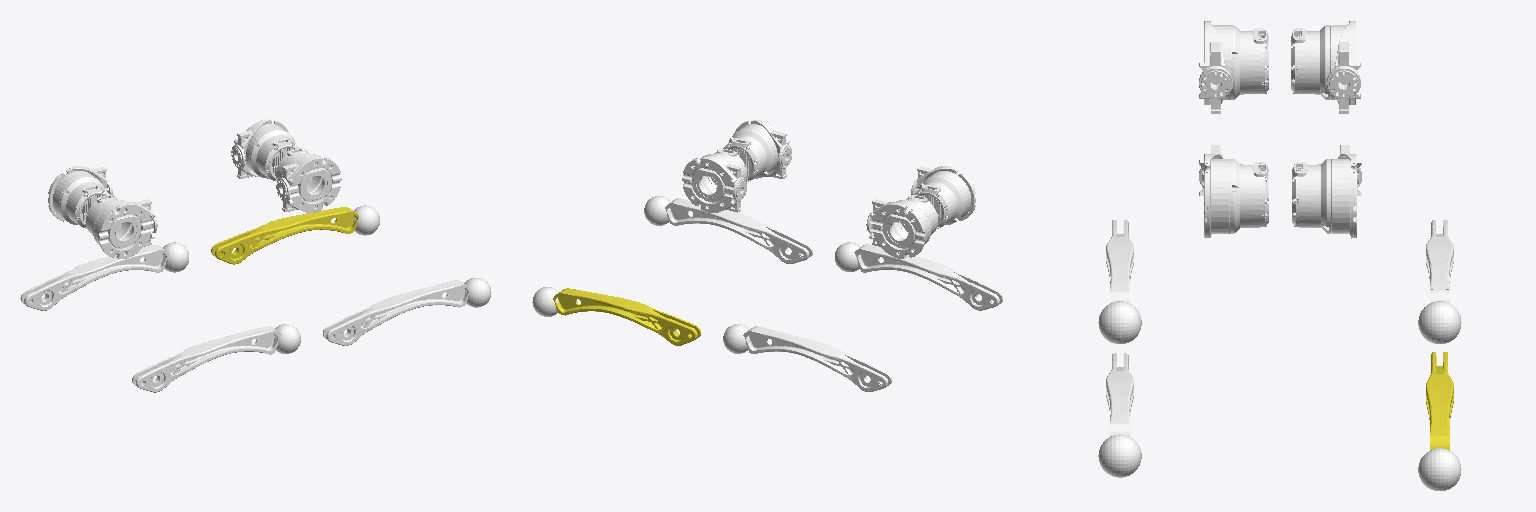
URDF robot description (MiniLiteV3):
<?xml version="1.0" encoding="utf-8"?>  
<robot name="MiniLiteV3">   
  <link name="TORSO">  
    <inertial>
      <origin xyz="0 0 0" rpy="0 0 0" />
      <mass value="7.794" />
      <inertia ixx="0.02351" ixy="0" ixz="0" iyy="0.05282" iyz="0" izz="0.06716" />
    </inertial>
    <visual>
      <origin xyz="0 0 0" rpy="0 0 0" />
      <geometry>
        <mesh filename="../meshes/robot_dog.STL" />
      </geometry>
      <material name="">
        <color rgba="1 1 1 1" />
      </material>
    </visual>
    <collision>
      <origin xyz="0 0 0" rpy="0 0 0" />
      <geometry>
        <mesh filename="../meshes/robot_dog.STL" />
      </geometry>
    </collision>
  </link>  
  

 
  <link name="FL_HIP">  
    <inertial>
      <origin xyz="-0.010579    -0.011358    0.00048546" rpy="0 0 0" />
      <mass value="0.668" />
      <inertia ixx="0.0003949" ixy="0" ixz="0" iyy="0.0004028" iyz="0" izz="0.0004472" />
    </inertial>
    <visual>
      <origin xyz="0 0 0" rpy="0 0 0" />
      <geometry>
        <mesh filename="../meshes/fl_hip.STL" />
      </geometry>
      <material name="">
        <color rgba="1 1 1 1" />
      </material>
    </visual>
    <collision>
      <origin xyz="0 0 0" rpy="0 0 0" />
      <geometry>
        <mesh filename="../meshes/fl_hip.STL" />
      </geometry>
    </collision>
  </link>  
  
  <joint name="FL_HipX_joint" type="revolute">  
    <origin xyz="0.16 0.0767 0" />  
    <parent link="TORSO" />  
    <child link="FL_HIP" />  
    <axis xyz="-1 0 0" />  
    <dynamics damping="0.01" friction="0.03"/> 
    <limit lower="-0.48869" upper="0.48869" effort="20" velocity="30" />
    <limit lower="-0.5236" upper="0.5236" effort="46" velocity="29" />  
  </joint>  
  
  <link name="FL_THIGH">  
    <inertial>
      <origin xyz="-0.0052817 -0.014632 -0.042672" rpy="0 0 0" />
      <mass value="1.291" />
      <inertia ixx="0.006136" ixy="0" ixz="0" iyy="0.005306" iyz="0" izz="0.001536" />
    </inertial> 
    <visual>
      <origin xyz="0 0 0" rpy="0 0 0" />
      <geometry>
        <mesh filename="../meshes/fl_thigh.STL" />
      </geometry>
      <material name="">
        <color rgba="1 1 1 1" />
      </material>
    </visual>
    <collision>
      <origin xyz="0 0 0" rpy="0 0 0" />
      <geometry>
        <mesh filename="../meshes/fl_thigh.STL" />
      </geometry>
    </collision>
  </link>  
  
  <joint name="FL_HipY_joint" type="revolute">  
    <origin xyz="0 0.0855 0" />  
    <parent link="FL_HIP" />  
    <child link="FL_THIGH" />  
    <axis xyz="0 -1 0" />  
    <dynamics damping="0.01" friction="0.03"/> 
    <limit lower="-2.792" upper="1.57" effort="46" velocity="29" />  
  </joint>  
  
  <link name="FL_SHANK">  
    <inertial>
      <origin xyz="0.0064794 -1.4535E-06 -0.12157" rpy="0 0 0" />
      <mass value="0.18211" />
      <inertia ixx="0.00089039" ixy="0"  ixz="0"  iyy="0.00090672" iyz="0" izz="3.1266E-05" />
    </inertial>
    <visual>  
    <origin rpy="0 0 0" xyz="0.0 0.0 0.0"/>  
      <geometry>  
        <mesh filename="../meshes/fl_shank_collision.obj" />  
      </geometry>  
    </visual>  
    <collision>
      <origin xyz="0 0 0" rpy="0 0 0" />
      <geometry>
        <mesh filename="../meshes/fl_shank_collision.obj" />
      </geometry>
    </collision>
  </link>  
  
  <joint name="FL_Knee_joint" type="revolute">  
    <origin xyz="0 0 -0.20" />  
    <parent link="FL_THIGH" />  
    <child link="FL_SHANK" />  
    <axis xyz="0 -1 0" />  
    <dynamics damping="0.01" friction="0.03"/> 
    <limit lower="0.5236" upper="2.5831" effort="59" velocity="21" />  
  </joint>  
  
  <link name="FL_FOOT">  
    <inertial>  
      <mass value="0.06" /> 
      <inertia ixx="1E-12" ixy="0" ixz="0" iyy="1E-12" iyz="0" izz="1E-12" />  
    </inertial>  
    <collision>  
      <geometry>  
        <sphere radius="0.02"/>  
      </geometry>  
    </collision>  
        <visual>
      <origin rpy="1.57079632679 0 0" xyz="0 0 0"/>
      <geometry>
        <sphere radius="0.022"/>
      </geometry>
      <material name="">
        <color rgba="1 1 1 1" />
      </material>
    </visual>
  </link>  
  
  <joint name="FL_Ankle" type="fixed" dont_collapse="true">  
    <origin xyz="0 0 -0.22"/>  
    <parent link="FL_SHANK" />  
    <child link="FL_FOOT" />  
  </joint>  
  
  <link name="FR_HIP">  
    <inertial>
      <origin xyz="-0.010579 0.011358 0.00048546" rpy="0 0 0" />
      <mass value="0.668" />
      <inertia ixx="0.0003949" ixy="0" ixz="0" iyy="0.0004028" iyz="0" izz="0.0004472" />
    </inertial>
    <visual>
      <origin xyz="0 0 0" rpy="0 0 0" />
      <geometry>
        <mesh filename="../meshes/fr_hip.STL" />
      </geometry>
      <material name="">
        <color rgba="1 1 1 1" />
      </material>
    </visual>
    <collision>
      <origin xyz="0 0 0" rpy="0 0 0" />
      <geometry>
        <mesh filename="../meshes/fr_hip.STL" />
      </geometry>
    </collision>
  </link>  
  
  <joint name="FR_HipX_joint" type="revolute">  
    <origin xyz="0.16 -0.0767 0" />  
    <parent link="TORSO" />  
    <child link="FR_HIP" />  
    <axis xyz="-1 0 0" />  
    <dynamics damping="0.01" friction="0.03"/> 
    <limit lower="-0.5236" upper="0.5236" effort="46" velocity="29" />  
  </joint>  
  
  <link name="FR_THIGH">  
    <inertial>
      <origin xyz="-0.0039245 0.025256 -0.025146" rpy="0 0 0" />
      <mass value="1.297"/>
      <!-- inertia ixx="0.00433" ixy="0.00001" ixz="0.00034" iyy="0.00403"  iyz="-0.0000186" izz="0.00143" -->
      <inertia ixx="0.006136" ixy="0" ixz="0" iyy="0.005306" iyz="0" izz="0.001536" />
    </inertial>
    <visual>
      <origin xyz="0 0 0" rpy="0 0 0" />
      <geometry>
        <mesh filename="../meshes/fr_thigh.STL" />
      </geometry>
      <material name="">
        <color rgba="1 1 1 1" />
      </material>
    </visual>
    <collision>
      <origin xyz="0 0 0" rpy="0 0 0" />
      <geometry>
        <mesh filename="../meshes/fr_thigh.STL" />
      </geometry>
    </collision>
  </link>  
  
  <joint name="FR_HipY_joint" type="revolute">  
    <origin xyz="0 -0.0855 0" />  
    <parent link="FR_HIP" />  
    <child link="FR_THIGH" />  
    <axis xyz="0 -1 0" />  
    <dynamics damping="0.01" friction="0.03"/> 
    <limit lower="-2.792" upper="1.57" effort="46" velocity="29" />  
  </joint>  
  
  <link name="FR_SHANK">  
    <inertial>
      <origin xyz="0.0064794 -1.4552E-06 -0.12157" rpy="0 0 0" />
      <mass value="0.18206" />
      <inertia ixx="0.00089039" ixy="0"  ixz="0"  iyy="0.00090672" iyz="0" izz="3.1266E-05" />
    </inertial>
    <visual>
      <origin xyz="0 0 0" rpy="0 0 0" />
      <geometry>
        <mesh filename="../meshes/fr_shank_collision.obj" />
      </geometry>
      <material name="">
        <color rgba="1 1 1 1" />
      </material>
    </visual>
    <collision>
      <origin xyz="0 0 0" rpy="0 0 0" />
      <geometry>
        <mesh filename="../meshes/fr_shank_collision.obj" />
      </geometry>
    </collision>
  </link>  
  
  <joint name="FR_Knee_joint" type="revolute">  
    <origin xyz="0 0 -0.20" />  
    <parent link="FR_THIGH" />  
    <child link="FR_SHANK" />  
    <axis xyz="0 -1 0" />  
    <dynamics damping="0.01" friction="0.03"/> 
    <limit lower="0.5236" upper="2.7225" effort="59" velocity="21" />  
  </joint>  
  
  <link name="FR_FOOT">  
    <inertial>  
      <mass value="0.06" /> 
      <inertia ixx="1E-12" ixy="0" ixz="0" iyy="1E-12" iyz="0" izz="1E-12" />  
    </inertial>  
    <collision>  
      <geometry>  
        <sphere radius="0.02"/>  
      </geometry>  
    </collision>  
    <visual>
      <origin rpy="1.57079632679 0 0" xyz="0 0 0"/>
      <geometry>
        <sphere radius="0.022"/>
      </geometry>
      <material name="">
        <color rgba="1 1 1 1" />
      </material>
    </visual>
  </link>  
  
  <joint name="FR_Ankle" type="fixed" dont_collapse="true">  
    <origin xyz="0 0 -0.22"/>  
    <parent link="FR_SHANK" />  
    <child link="FR_FOOT" />  
  </joint>  
  
  <link name="HL_HIP">  
    <inertial>
      <origin xyz="0.010905 -0.012636 0.001051" rpy="0 0 0" />
      <mass value="0.668" />
      <inertia ixx="0.0003949" ixy="0" ixz="0" iyy="0.0004028" iyz="0" izz="0.0004472" />
    </inertial>
    <visual>
      <origin xyz="0 0 0" rpy="0 0 0" />
      <geometry>
        <mesh filename="../meshes/hl_hip.STL" />
      </geometry>
      <material name="">
        <color rgba="1 1 1 1" />
      </material>
    </visual>
    <collision>
      <origin xyz="0 0 0" rpy="0 0 0" />
      <geometry>
        <mesh filename="../meshes/hl_hip.STL" />
      </geometry>
    </collision> 
  </link>  
  
  <joint name="HL_HipX_joint" type="revolute">  
    <origin xyz="-0.16 0.0767 0" />  
    <parent link="TORSO" />  
    <child link="HL_HIP" />  
    <axis xyz="-1 0 0" />  
    <dynamics damping="0.01" friction="0.03"/> 
    <limit lower="-0.5236" upper="0.5236" effort="46" velocity="29" />  
  </joint>  
  
  <link name="HL_THIGH">  
    <inertial>
      <origin xyz="-0.0057137 -0.014631 -0.042453" rpy="0 0 0" />
      <mass value="1.291" />
      <inertia ixx="0.006136" ixy="0" ixz="0" iyy="0.005306" iyz="0" izz="0.001536" />
    </inertial>
    <visual>
      <origin xyz="0 0 0" rpy="0 0 0" />
      <geometry>
        <mesh filename="../meshes/hl_thigh.STL" />
      </geometry>
      <material name="">
        <color rgba="1 1 1 1" />
      </material>
    </visual>
    <collision>
      <origin xyz="0 0 0" rpy="0 0 0" />
      <geometry>
        <mesh filename="../meshes/hl_thigh.STL" />
      </geometry>
    </collision> 
  </link>  
  
  <joint name="HL_HipY_joint" type="revolute">  
    <origin xyz="0 0.0855 0" />  
    <parent link="HL_HIP" />  
    <child link="HL_THIGH" />  
    <axis xyz="0 -1 0" />  
    <dynamics damping="0.01" friction="0.03"/> 
    <limit lower="-2.792" upper="1.57" effort="46" velocity="29" />  
  </joint>  
  
  <link name="HL_SHANK">  
    <inertial>
      <origin xyz="0.0064794 -1.4558E-06 -0.12157" rpy="0 0 0" />
      <mass value="0.18211" />
      <inertia ixx="0.00089039" ixy="0"  ixz="0"  iyy="0.00090672" iyz="0" izz="3.1266E-05" />
    </inertial>
    <visual>
      <origin xyz="0 0 0" rpy="0 0 0" />
      <geometry>
        <mesh filename="../meshes/hl_shank_collision.obj" />
      </geometry>
      <material name="">
        <color rgba="1 1 1 1" />
      </material>
    </visual>
    <collision>
      <origin xyz="0 0 0" rpy="0 0 0" />
      <geometry>
        <mesh filename="../meshes/hl_shank_collision.obj" />
      </geometry>
    </collision>
  </link>  
  
  <joint name="HL_Knee_joint" type="revolute">  
    <origin xyz="0 0 -0.20" />  
    <parent link="HL_THIGH" />  
    <child link="HL_SHANK" />  
    <axis xyz="0 -1 0" />  
    <dynamics damping="0.01" friction="0.03"/> 
    <limit lower="0.5236" upper="2.7225" effort="59" velocity="21" />  
  </joint>  
  
  <link name="HL_FOOT">  
    <inertial>  
      <mass value="0.06" />  
      <inertia ixx="1E-12" ixy="0" ixz="0" iyy="1E-12" iyz="0" izz="1E-12" />  
    </inertial>  
    <collision>  
      <geometry>  
        <sphere radius="0.02"/>  
      </geometry>  
    </collision>  
      <visual>
      <origin rpy="1.57079632679 0 0" xyz="0 0 0"/>
      <geometry>
        <sphere radius="0.022"/>
      </geometry>
      <material name="">
        <color rgba="1 1 1 1" />
      </material>
    </visual>
  </link>  
  
  <joint name="HL_Ankle" type="fixed" dont_collapse="true">  
    <origin xyz="0 0 -0.22"/>  
    <parent link="HL_SHANK" />  
    <child link="HL_FOOT" />  
  </joint>  
  
  <link name="HR_HIP">  
    <inertial>
      <origin xyz="0.010354 0.011423 0.00049498" rpy="0 0 0" />
      <mass value="0.668" />
      <inertia ixx="0.0003949" ixy="0" ixz="0" iyy="0.0004028" iyz="0" izz="0.0004472" />
    </inertial>
    <visual>
      <origin xyz="0 0 0" rpy="0 0 0" />
      <geometry>
        <mesh filename="../meshes/hr_hip.STL" />
      </geometry>
      <material name="">
        <color rgba="1 1 1 1" />
      </material>
    </visual>
    <collision>
      <origin xyz="0 0 0" rpy="0 0 0" />
      <geometry>
        <mesh filename="../meshes/hr_hip.STL" />
      </geometry>
    </collision>
  </link>  
  
  <joint name="HR_HipX_joint" type="revolute">  
    <origin xyz="-0.16 -0.0767 0" />  
    <parent link="TORSO" />  
    <child link="HR_HIP" />  
    <axis xyz="-1 0 0" />  
    <dynamics damping="0.01" friction="0.03"/> 
    <limit lower="-0.5236" upper="0.5236" effort="46" velocity="29" />  
  </joint>  
  
  <link name="HR_THIGH">  
    <inertial>
      <origin xyz="-0.0031903 0.02526 -0.025617" rpy="0 0 0" />
      <mass value="1.291"/>
      <inertia ixx="0.006136" ixy="0" ixz="0" iyy="0.005306" iyz="0" izz="0.001536" />
    </inertial> 
    <visual>
      <origin xyz="0 0 0" rpy="0 0 0" />
      <geometry>
        <mesh filename="../meshes/hr_thigh.STL" />
      </geometry>
      <material name="">
        <color rgba="1 1 1 1" />
      </material>
    </visual>
    <collision>
      <origin xyz="0 0 0" rpy="0 0 0" />
      <geometry>
        <mesh filename="../meshes/hr_thigh.STL" />
      </geometry>
    </collision>
  </link>  
  
  <joint name="HR_HipY_joint" type="revolute">  
    <origin xyz="0 -0.0855 0" />  
    <parent link="HR_HIP" />  
    <child link="HR_THIGH" />  
    <axis xyz="0 -1 0" />  
    <dynamics damping="0.01" friction="0.03"/> 
    <limit lower="-2.792" upper="1.57" effort="46" velocity="29" />  
  </joint>  
  
  <link name="HR_SHANK">  
    <inertial>
      <origin xyz="0.0064794 -1.4529E-06 -0.12157" rpy="0 0 0" />
      <mass value="0.18206" />
      <inertia ixx="0.00089039" ixy="0"  ixz="0"  iyy="0.00090672" iyz="0" izz="3.1266E-05" />
    </inertial>  
    <visual>
      <origin xyz="0 0 0" rpy="0 0 0" />
      <geometry>
        <mesh filename="../meshes/hr_shank_collision.obj" />
      </geometry>
      <material name="">
        <color rgba="1 1 1 1" />
      </material>
    </visual>
    <collision>
      <origin xyz="0 0 0" rpy="0 0 0" />
      <geometry>
        <mesh filename="../meshes/hr_shank_collision.obj" />
      </geometry>
    </collision> 
  </link>  
  
  <joint name="HR_Knee_joint" type="revolute">  
    <origin xyz="0 0 -0.20" />  
    <parent link="HR_THIGH" />  
    <child link="HR_SHANK" />  
    <axis xyz="0 -1 0" />  
    <dynamics damping="0.01" friction="0.03"/> 
    <limit lower="0.5236" upper="2.7225" effort="59" velocity="21" />  
  </joint>  
  
  <link name="HR_FOOT">  
    <inertial>  
      <mass value="0.06" /> 
      <inertia ixx="1E-12" ixy="0" ixz="0" iyy="1E-12" iyz="0" izz="1E-12" />  
    </inertial>  
    <collision>  
      <geometry>  
        <sphere radius="0.02"/>  
      </geometry>  
    </collision>  
      <visual>
      <origin rpy="1.57079632679 0 0" xyz="0 0 0"/>
      <geometry>
        <sphere radius="0.022"/>
      </geometry>
      <material name="">
        <color rgba="1 1 1 1" />
      </material>
    </visual>
  </link>  
  
  <joint name="HR_Ankle" type="fixed" dont_collapse="true">  
    <origin xyz="0 0 -0.22"/>  
    <parent link="HR_SHANK" />  
    <child link="HR_FOOT" />  
  </joint>  
  
</robot>  

--- Facts derived from the render (not from the file) ---
Views: 3 orthographic renders of the robot side by side, from view 1: azimuth 30°, elevation 25°; view 2: azimuth 150°, elevation 25°; view 3: azimuth 270°, elevation 25°.
Robot: MiniLiteV3 — 17 links, 16 joints (12 revolute, 4 fixed); root link TORSO; default pose: joints at zero except 4 at the middle of their limits (FL_Knee_joint = 1.55, FR_Knee_joint = 1.62, HL_Knee_joint = 1.62, HR_Knee_joint = 1.62).
Visible links, largest first — view 1: HR_HIP, FR_HIP, HR_SHANK, FR_SHANK, FL_SHANK, HL_SHANK, FL_HIP, HL_HIP, FR_FOOT, FL_FOOT, HL_FOOT, HR_FOOT; view 2: HL_HIP, FL_HIP, HL_SHANK, FL_SHANK, HR_SHANK, FR_SHANK, FR_HIP, HR_HIP, FR_FOOT, FL_FOOT, HL_FOOT, HR_FOOT; view 3: HL_HIP, HR_HIP, FR_HIP, FL_HIP, FL_SHANK, FR_SHANK, HL_SHANK, HR_SHANK, HL_FOOT, HR_FOOT, FR_FOOT, FL_FOOT.
Link boxes in pixels (x1,y1,x2,y2): HR_HIP: (85,195,157,258); FR_HIP: (276,148,341,212); HR_SHANK: (132,326,281,392); FR_SHANK: (323,280,470,345); FL_SHANK: (211,207,358,264); HL_SHANK: (20,245,168,310); FL_HIP: (231,119,299,181); HL_HIP: (48,166,112,228); FR_FOOT: (464,278,491,307); FL_FOOT: (353,205,379,235); HL_FOOT: (163,242,188,272); HR_FOOT: (274,324,300,353); HL_HIP: (866,195,938,258); FL_HIP: (682,148,747,212); HL_SHANK: (743,326,891,391); FL_SHANK: (553,288,700,345); HR_SHANK: (854,244,1002,310); FR_SHANK: (665,198,812,263); FR_HIP: (723,120,791,181); HR_HIP: (911,166,975,228); FR_FOOT: (644,196,670,225); FL_FOOT: (532,287,558,316); HL_FOOT: (723,324,749,353); HR_FOOT: (835,242,860,271); HL_HIP: (1291,21,1360,113); HR_HIP: (1199,21,1268,113); FR_HIP: (1199,145,1268,237); FL_HIP: (1292,145,1361,238); FL_SHANK: (1426,352,1453,450); FR_SHANK: (1106,353,1133,436); HL_SHANK: (1426,220,1453,302); HR_SHANK: (1106,220,1133,302); HL_FOOT: (1418,301,1461,343); HR_FOOT: (1098,301,1141,343); FR_FOOT: (1098,434,1141,477); FL_FOOT: (1418,448,1461,490).
Size in the robot's own frame: 0.605 by 0.3684 by 0.2688 metres.
Meshes: 13 distinct files referenced, 8 mesh visuals loaded (4 binary STL, 4 OBJ); not drawn: 5 (reference not matched to a file when rendering).
